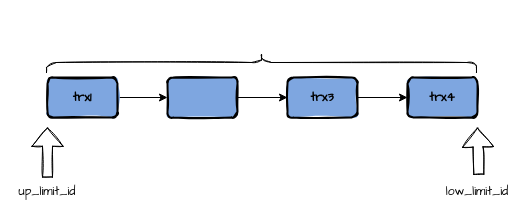
Some shapes in this 526 by 224 pixel diagram are drawn without their labels. Here are the shapes that lost their labels. From the top down, the centre of each, then its label:
At point 261,62: "m_ids".
At point 202,97: "trx2".
